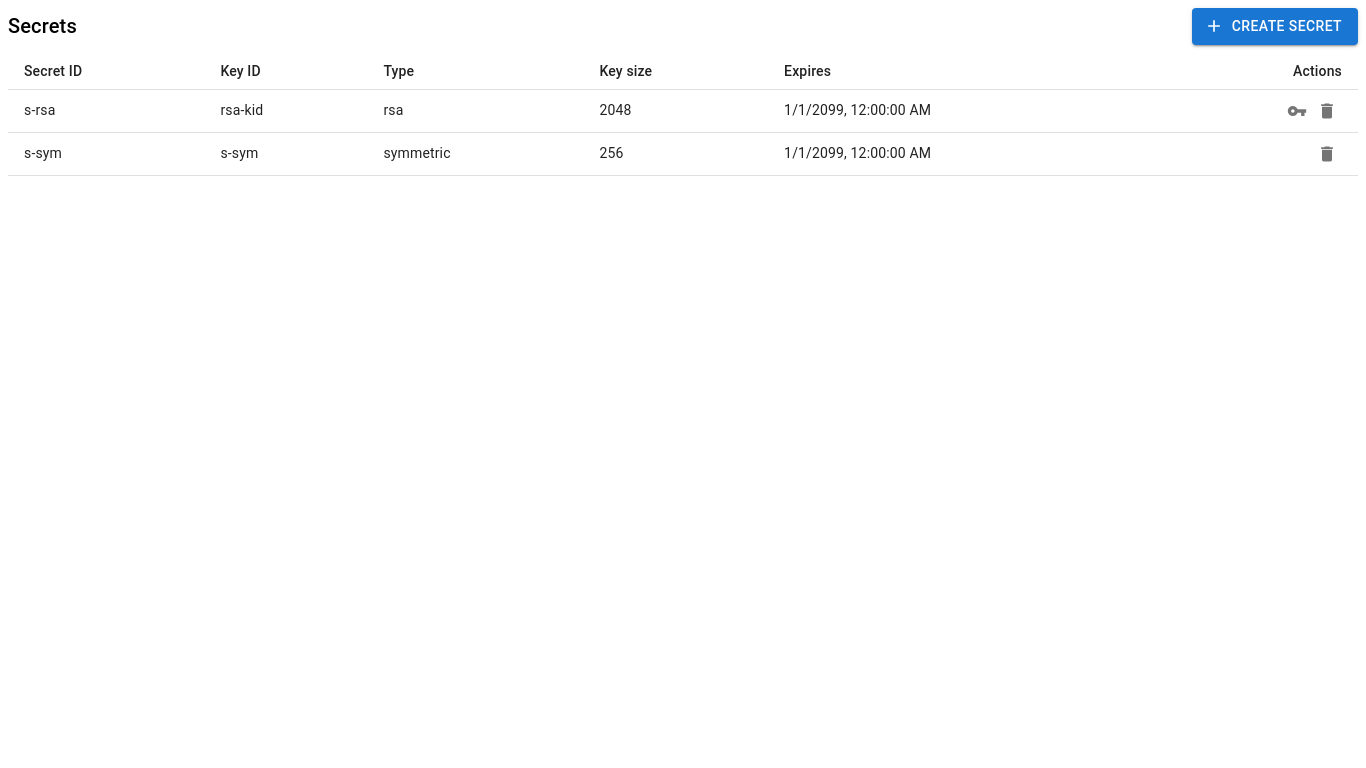
Test: SecretsManager › create › discards the create form on cancel
Click the button with test id "create-secret" at [1275, 26], box left=1192, top=8, right=1358, bottom=44
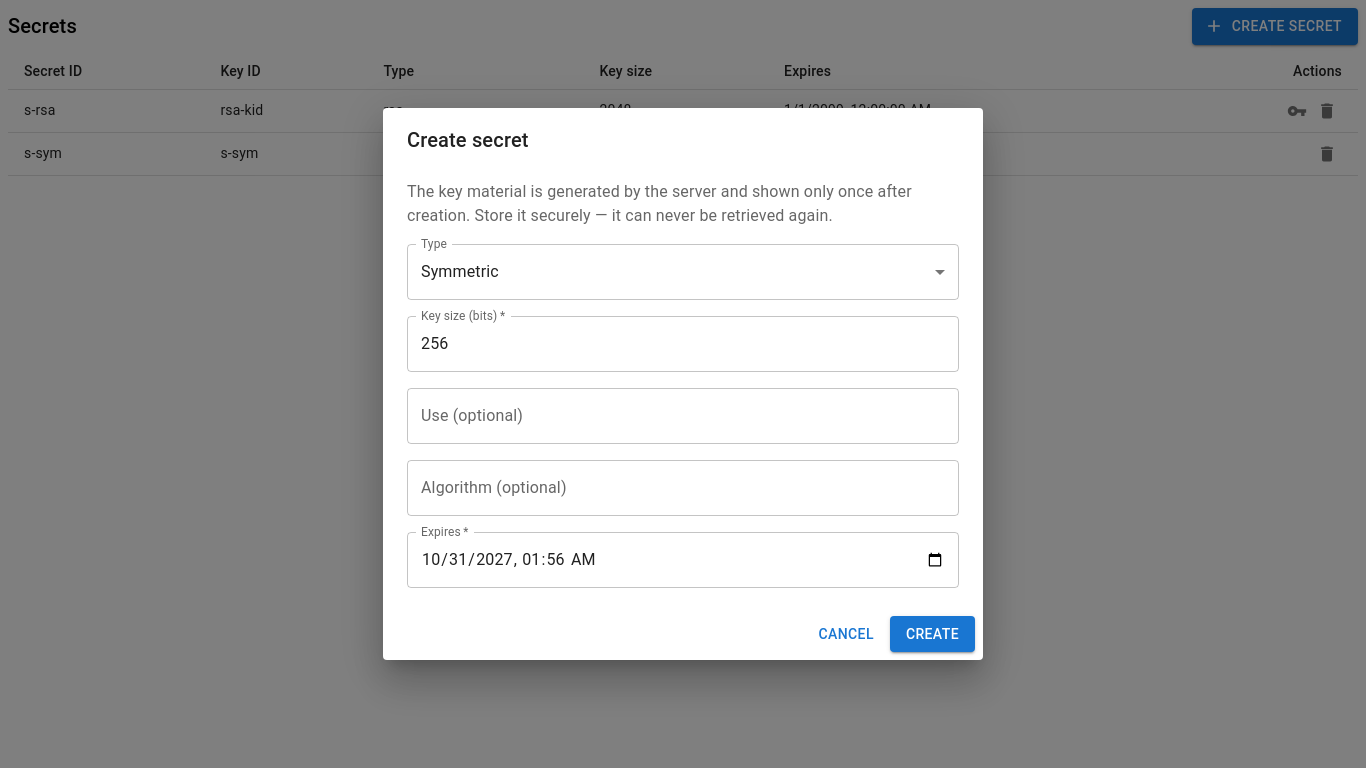
Click the button with test id "secret-form-cancel" at [846, 634], box left=810, top=616, right=882, bottom=652
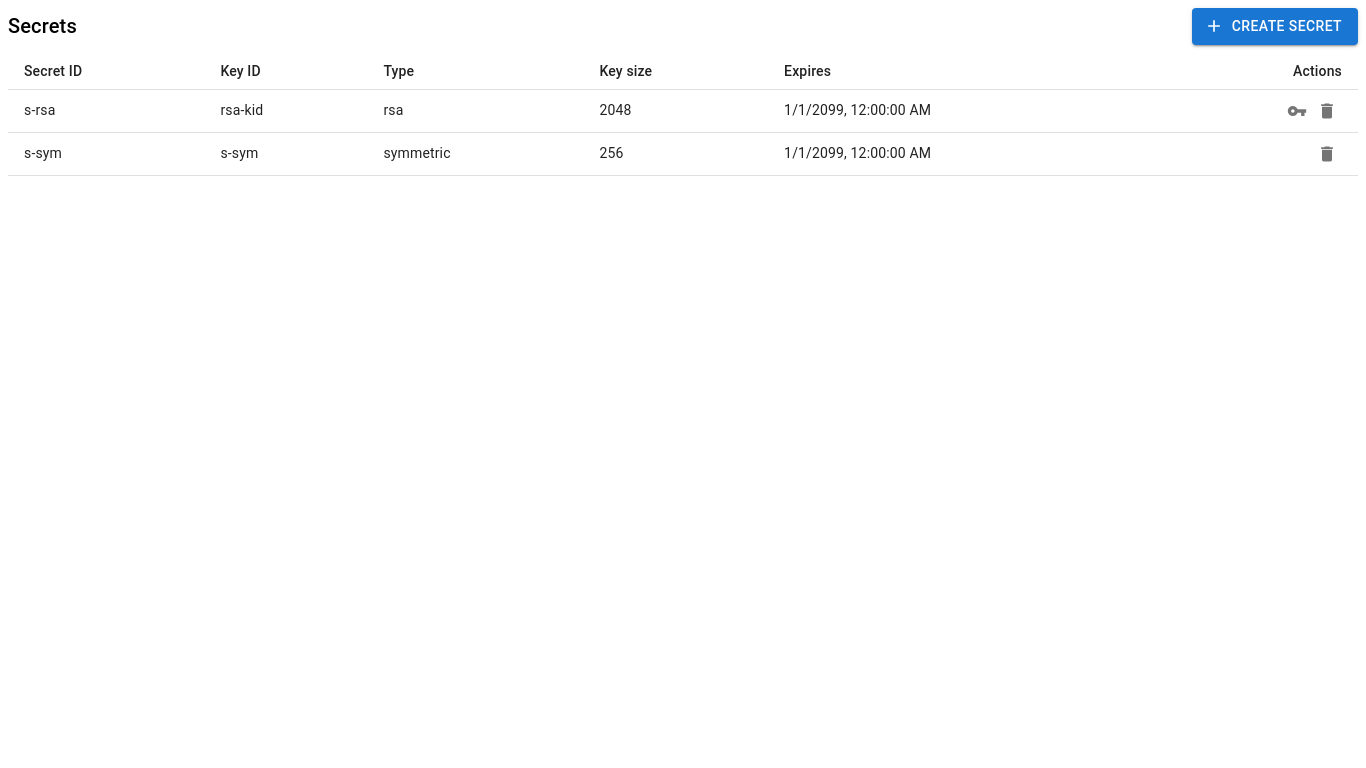
expect the button with test id "secret-form-submit" is gone: met
